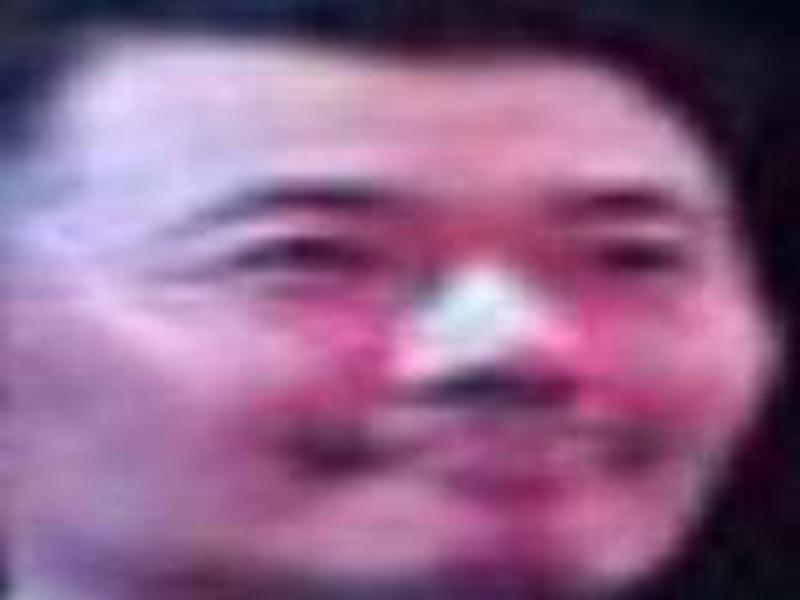without_mask: (40, 61, 768, 600)
